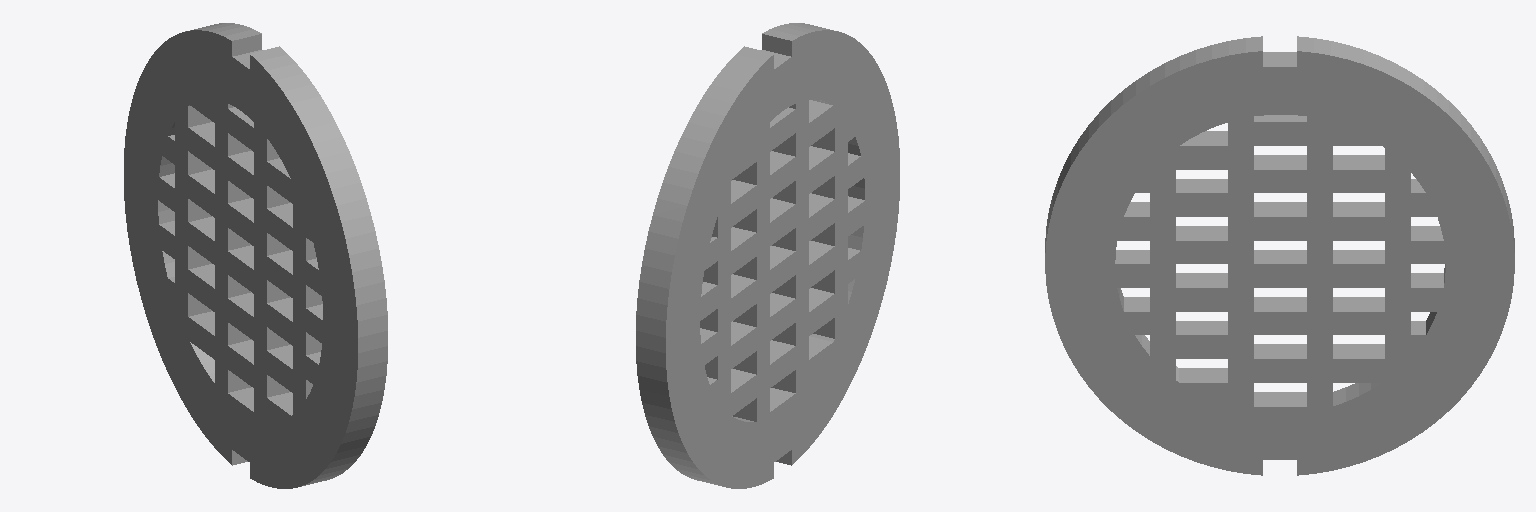
Rendered from grid_TOP.obj.
3 views of the same model, side by side, from view 1: azimuth 30°, elevation 25°; view 2: azimuth 150°, elevation 25°; view 3: azimuth 270°, elevation 25° (orthographic).
Parts seen in each view (by area): view 1: grid_TOP; view 2: grid_TOP; view 3: grid_TOP.
Part boxes in pixels (left/top/right/bottom): grid_TOP: left=124, top=23, right=387, bottom=488; grid_TOP: left=636, top=23, right=899, bottom=488; grid_TOP: left=1045, top=36, right=1514, bottom=475.
Size of the model in its own units: 2 by 26.93 by 26.98.